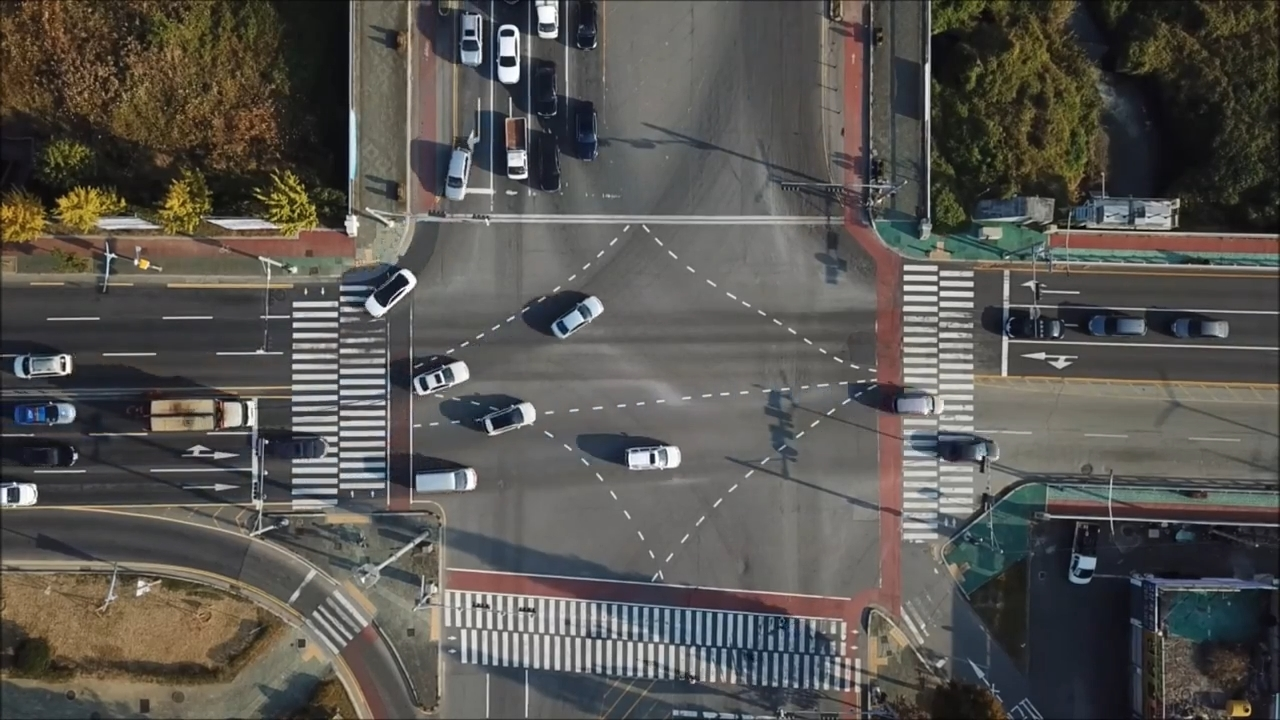car: (147, 398, 259, 434), (361, 266, 417, 317), (551, 295, 605, 341), (482, 399, 538, 437), (411, 361, 470, 397), (411, 465, 480, 495), (1067, 521, 1097, 586), (255, 434, 328, 459), (492, 21, 519, 85), (12, 350, 73, 378), (18, 442, 77, 470), (534, 124, 559, 189), (445, 142, 473, 200), (620, 446, 683, 471), (1002, 318, 1066, 342), (14, 402, 76, 426), (505, 117, 529, 179), (532, 60, 557, 119), (1091, 315, 1152, 339), (458, 10, 482, 68), (891, 395, 946, 420), (947, 439, 1000, 464), (574, 102, 596, 162), (1169, 318, 1234, 338), (573, 1, 595, 50), (533, 1, 559, 36), (1, 483, 38, 507)
